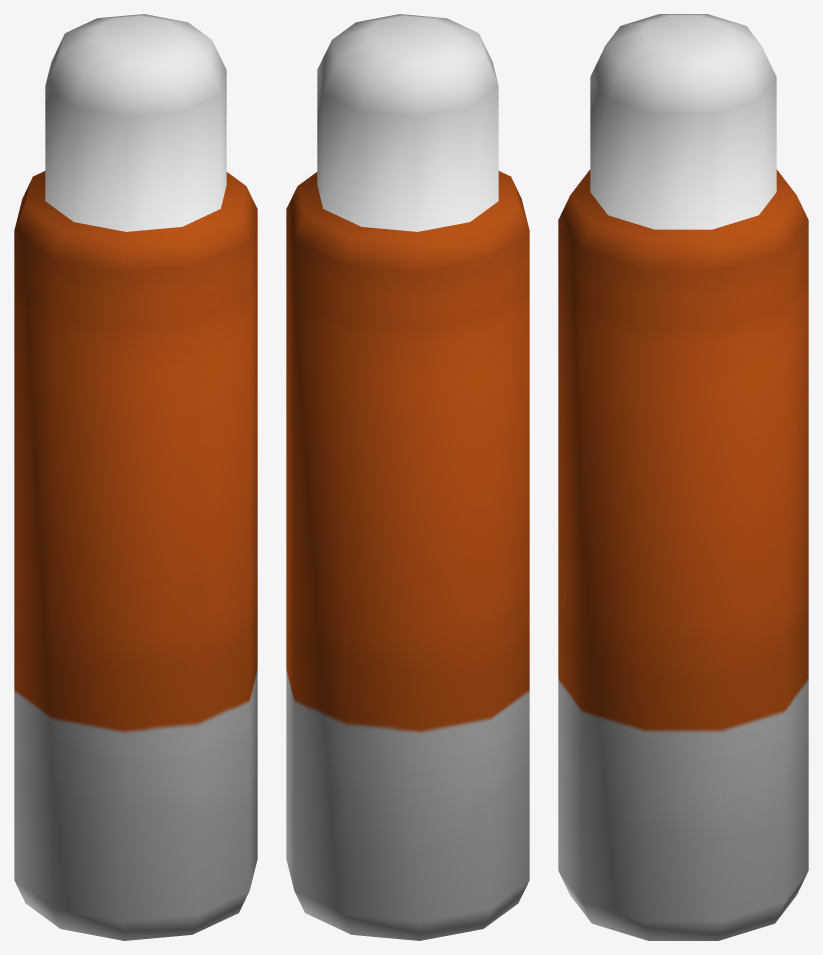
The model's file is Flare.fbx.
3 views of the same model, side by side, from view 1: azimuth 30°, elevation 25°; view 2: azimuth 150°, elevation 25°; view 3: azimuth 270°, elevation 25° (orthographic).
Parts seen in each view (by area): view 1: Cylinder; view 2: Cylinder; view 3: Cylinder.
Part boxes in pixels (x1,y1,x2,y2): Cylinder: (14, 14, 257, 940); Cylinder: (286, 14, 529, 940); Cylinder: (558, 14, 808, 940).
Bounding box in the file's own units: 9.78 × 39.62 × 10.28.
2 materials, 1 textured.
